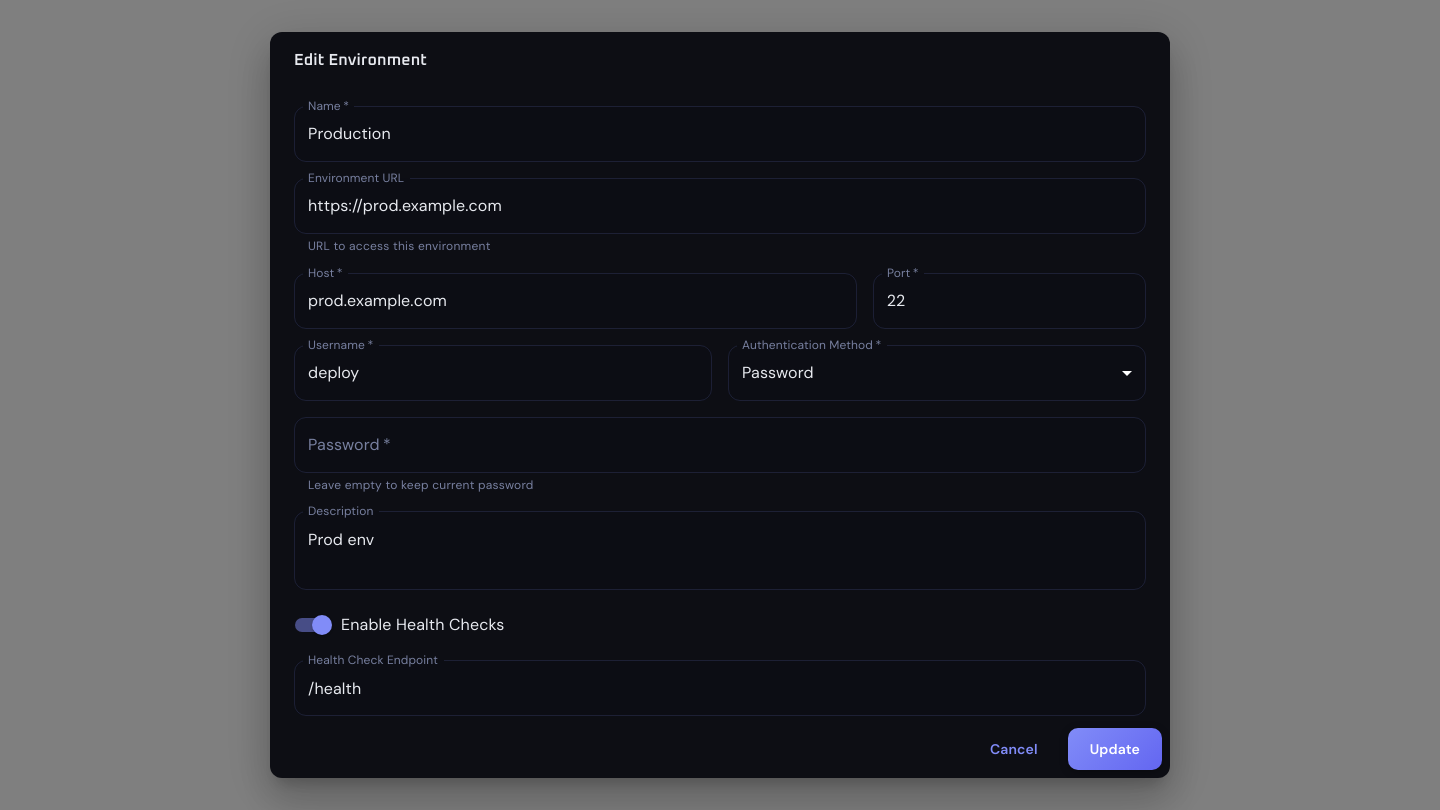
Test: EditEnvironmentDialog › updates port field and falls back to 22 on invalid input
Replace the text in the number field labelled "Port *" with "2222" at (1009, 300), box x1=873 y1=272 x2=1146 y2=328
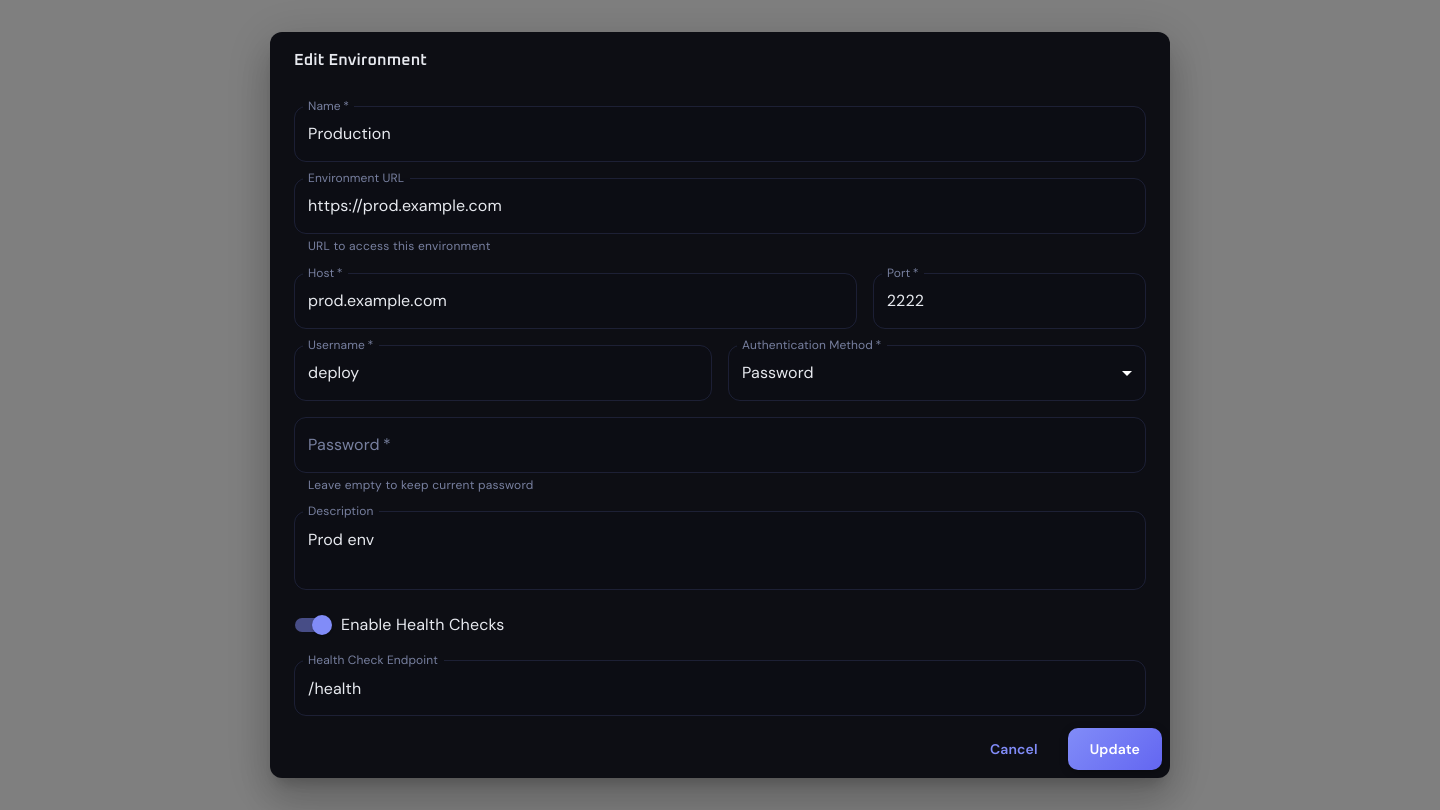
Clear the number field labelled "Port *" at (1009, 300), box x1=873 y1=272 x2=1146 y2=328
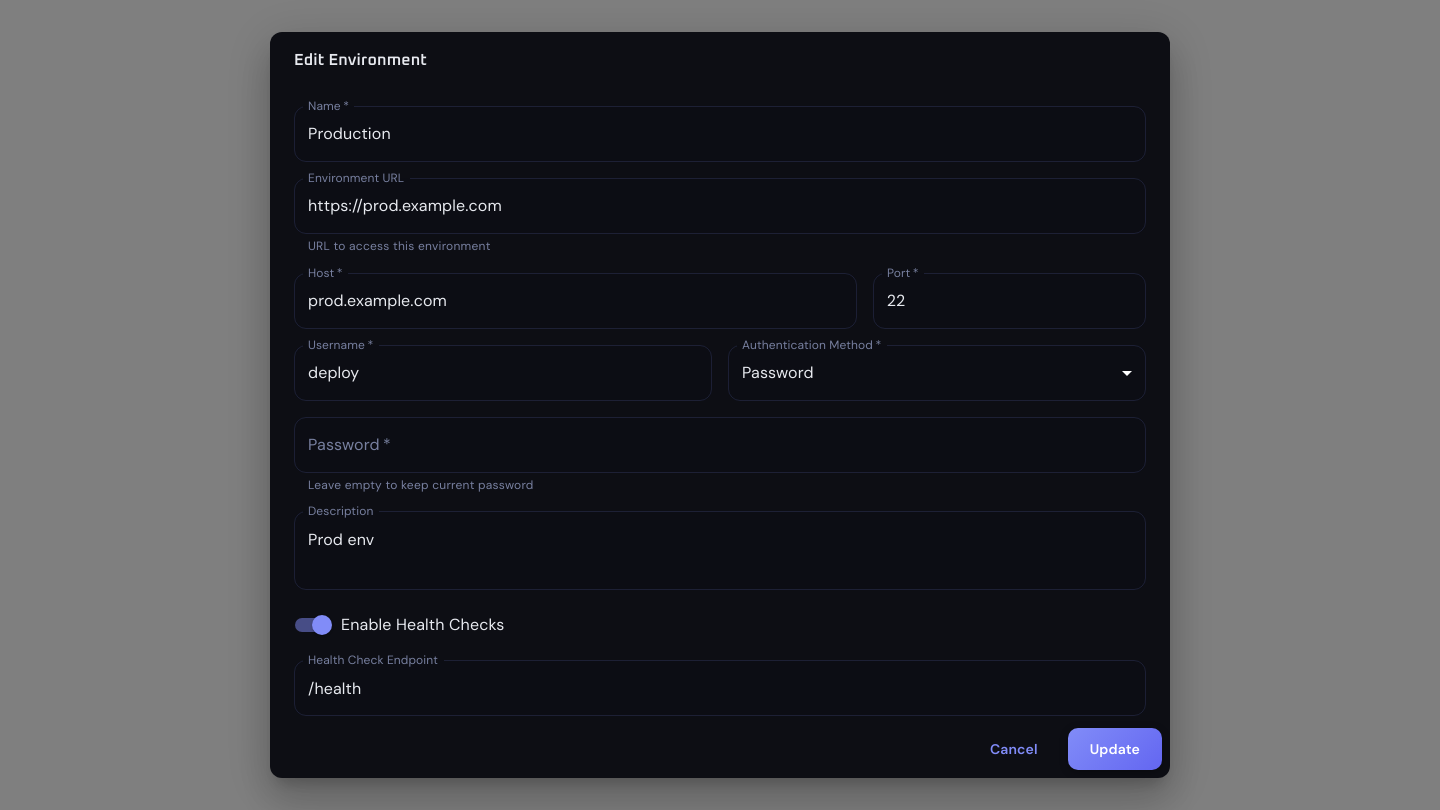
Check: the number field labelled "Port *" holds "22", box x1=873 y1=272 x2=1146 y2=328
